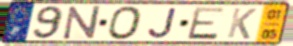9: (31, 5, 66, 40)
E: (186, 6, 227, 40)
J: (147, 7, 178, 40)
K: (225, 7, 258, 41)
N: (62, 5, 102, 41)
O: (106, 5, 144, 41)
